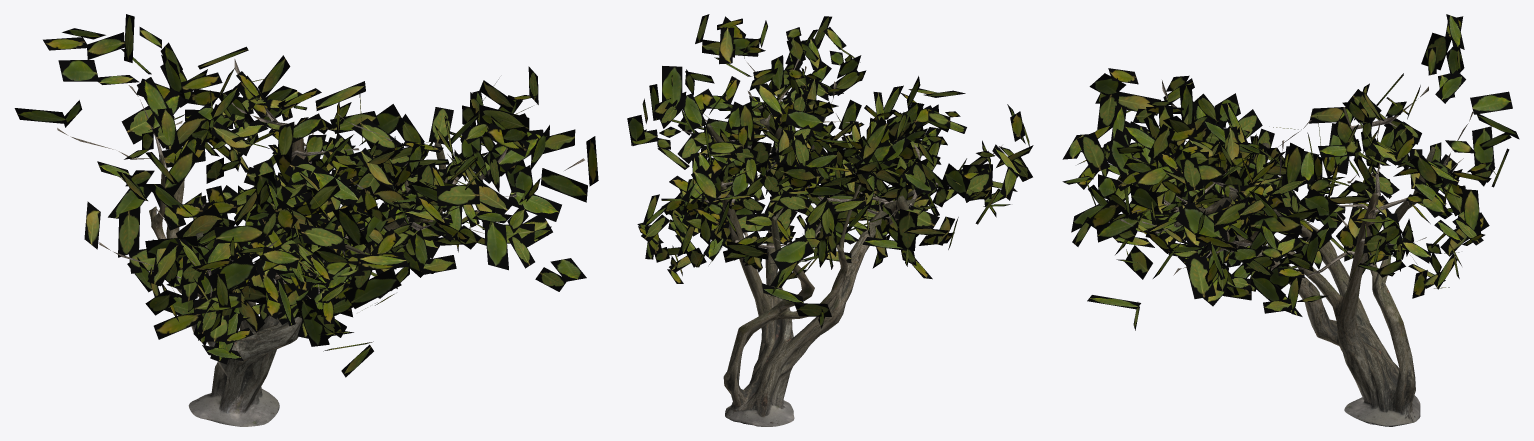
The model's file is distant.glb.
The picture shows the model from 3 angles, left to right: view 1: azimuth 30°, elevation 25°; view 2: azimuth 150°, elevation 25°; view 3: azimuth 270°, elevation 25°; orthographic projection. The views are drawn at different scales.
Parts seen in each view (by area): view 1: island_tree_02_LOD0; view 2: island_tree_02_LOD0; view 3: island_tree_02_LOD0.
Boxes of the visible parts, x1=… form: island_tree_02_LOD0: x1=14, y1=14, x2=598, y2=426; island_tree_02_LOD0: x1=627, y1=14, x2=1033, y2=426; island_tree_02_LOD0: x1=1062, y1=14, x2=1519, y2=426.
Size of the model in its own units: 3.96 by 3.46 by 4.17.
Materials: 3 (3 with a texture image).
